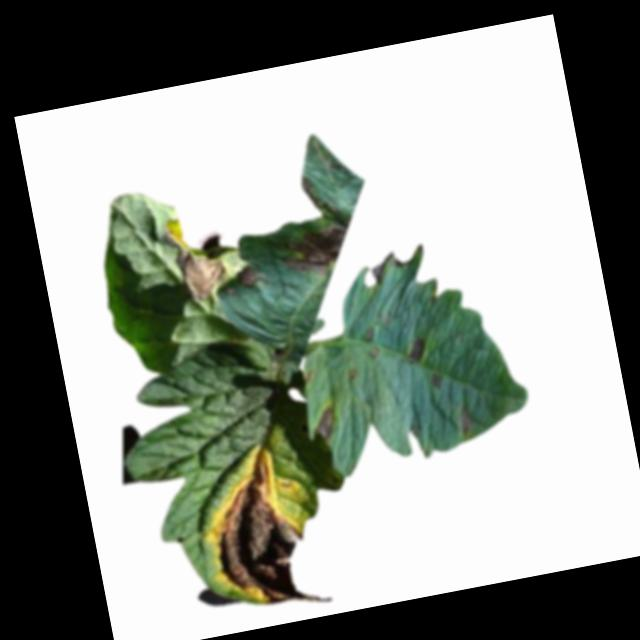Early_blight: (201, 439, 336, 623), (270, 167, 361, 287), (162, 207, 232, 309), (307, 403, 341, 443), (236, 261, 266, 292), (405, 337, 431, 366), (455, 402, 476, 437), (426, 369, 449, 392), (360, 330, 376, 346)
